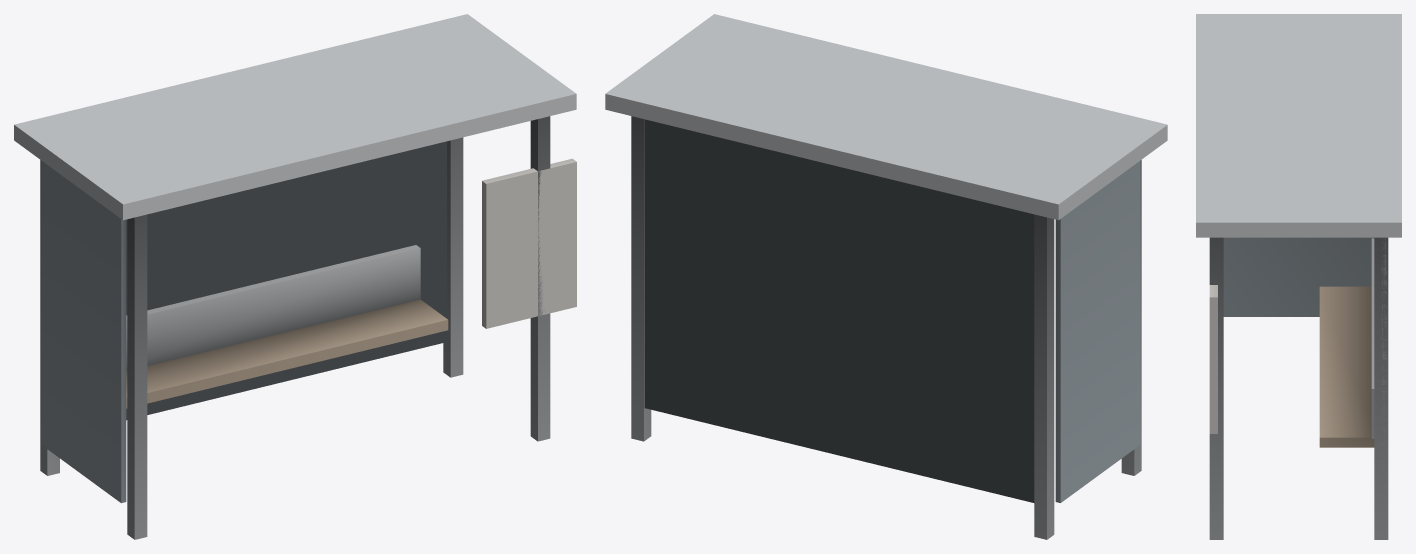
Rendered from bus_shelter.lod1.glb.
3 renders of one model, left to right at view 1: azimuth 30°, elevation 25°; view 2: azimuth 150°, elevation 25°; view 3: azimuth 270°, elevation 25°, orthographic. The views are drawn at different scales.
Parts seen in each view (by area): view 1: props_bus_shelter.lod1; view 2: props_bus_shelter.lod1; view 3: props_bus_shelter.lod1.
Part boxes in pixels (<box>): props_bus_shelter.lod1: <box>14,14,576,539</box>; props_bus_shelter.lod1: <box>605,14,1167,539</box>; props_bus_shelter.lod1: <box>1196,14,1401,539</box>.
Size of the model in its own units: 3.66 by 2.62 by 1.5.
